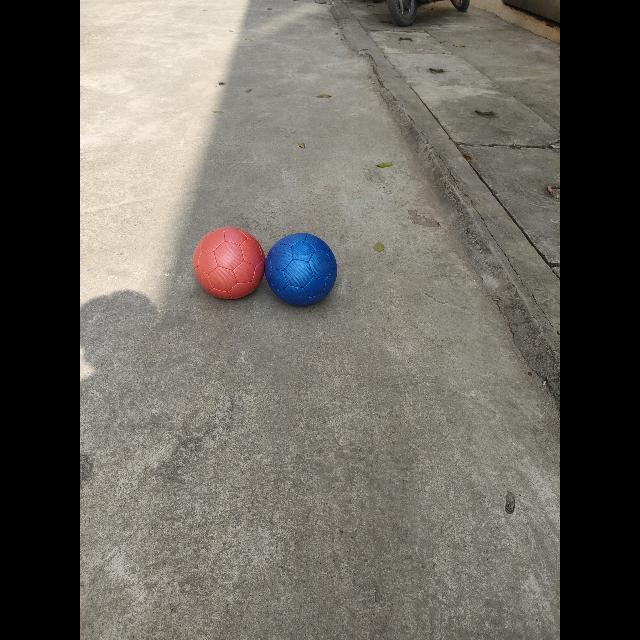B: (265, 233, 339, 310)
R: (193, 227, 266, 303)
